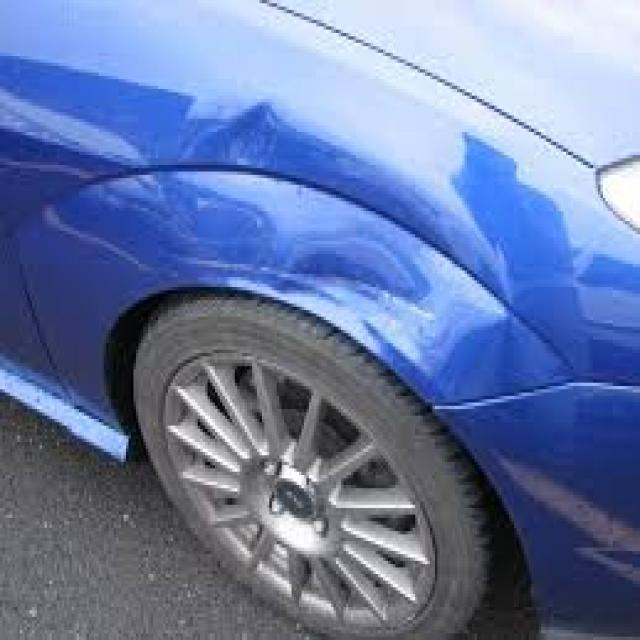moderate: (144, 94, 514, 327)
